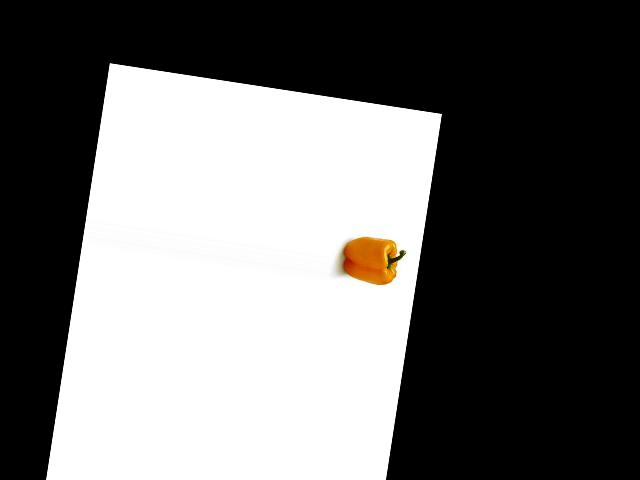bell_pepper: (339, 227, 410, 289)
